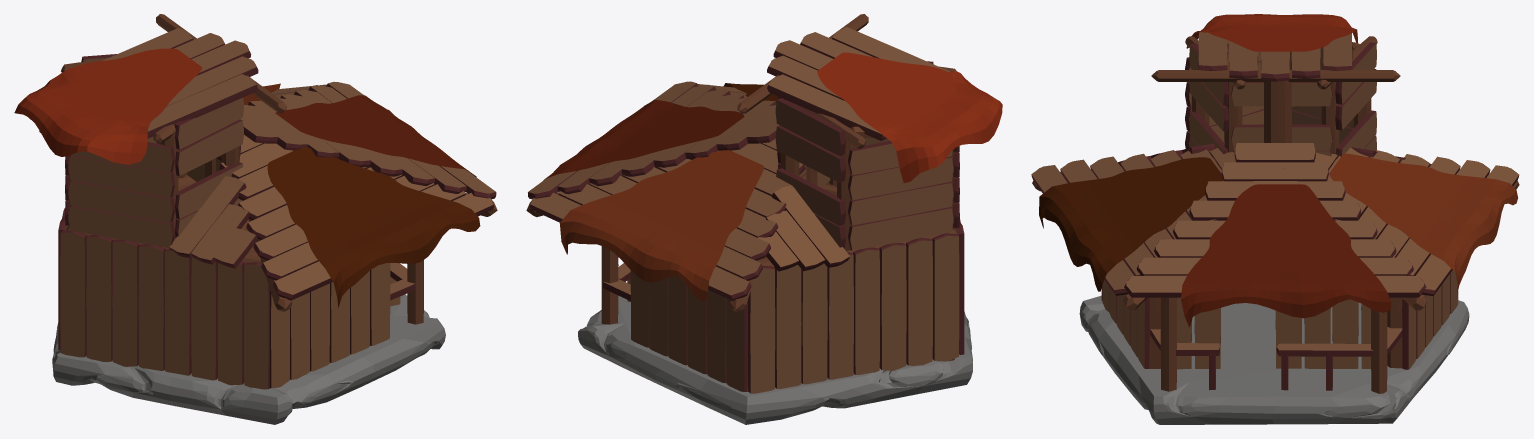
File: cheap.fbx
3 renders of one model, left to right at view 1: azimuth 30°, elevation 25°; view 2: azimuth 150°, elevation 25°; view 3: azimuth 270°, elevation 25°, orthographic. The views are drawn at different scales.
Parts seen in each view (by area): view 1: Grid.002, Cylinder, Grid.003, Grid, Cylinder.268, Cylinder.270, Cylinder.269, Cylinder.267, Cylinder.266, Cylinder.264, Cylinder.265, Cylinder.263 (+39 smaller); view 2: Grid.001, Cylinder, Grid.003, Grid, Cylinder.273, Cylinder.271, Cylinder.272, Cylinder.274, Cylinder.278, Cylinder.277, Cylinder.275, Cylinder.276 (+41 smaller); view 3: Cylinder, Grid, Grid.002, Grid.001, Grid.003, Cylinder.067, Cylinder.043, Cylinder.073, Cylinder.068, Cylinder.069, Cylinder.034, Cylinder.050 (+42 smaller).
Boxes of the visible parts, x1,y1,x2,y2 form: Grid.002: [267, 147, 480, 307]; Cylinder: [52, 294, 445, 424]; Grid.003: [14, 48, 202, 164]; Grid: [275, 95, 476, 177]; Cylinder.268: [112, 239, 139, 366]; Cylinder.270: [60, 230, 87, 357]; Cylinder.269: [86, 235, 113, 361]; Cylinder.267: [138, 244, 165, 370]; Cylinder.266: [164, 249, 191, 375]; Cylinder.264: [217, 261, 244, 385]; Cylinder.265: [191, 257, 217, 380]; Cylinder.263: [244, 262, 269, 389]; Grid.001: [559, 150, 763, 300]; Cylinder: [578, 295, 972, 424]; Grid.003: [817, 52, 1002, 183]; Grid: [543, 99, 744, 180]; Cylinder.273: [879, 243, 906, 370]; Cylinder.271: [932, 233, 959, 361]; Cylinder.272: [906, 238, 932, 365]; Cylinder.274: [853, 247, 879, 374]; Cylinder.278: [748, 266, 775, 393]; Cylinder.277: [774, 265, 801, 388]; Cylinder.275: [827, 252, 853, 379]; Cylinder.276: [801, 263, 827, 384]; Cylinder: [1079, 295, 1469, 424]; Grid: [1180, 184, 1391, 327]; Grid.002: [1039, 157, 1223, 291]; Grid.001: [1329, 153, 1517, 293]; Grid.003: [1186, 14, 1357, 51]; Cylinder.067: [1124, 275, 1426, 297]; Cylinder.043: [1151, 70, 1400, 81]; Cylinder.073: [1221, 162, 1328, 181]; Cylinder.068: [1136, 257, 1413, 275]; Cylinder.069: [1154, 239, 1396, 257]; Cylinder.034: [1264, 80, 1291, 142]; Cylinder.050: [1231, 82, 1332, 106].
Size of the model in its own units: 951 by 696 by 1071.
